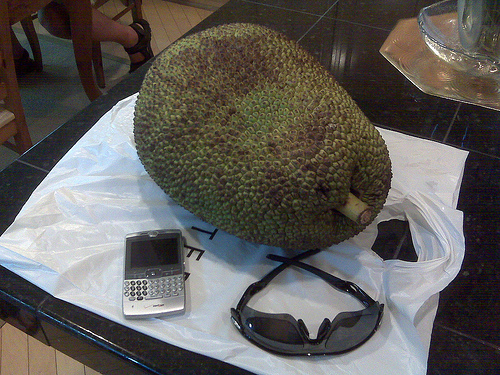jackfruit: (132, 22, 393, 251)
